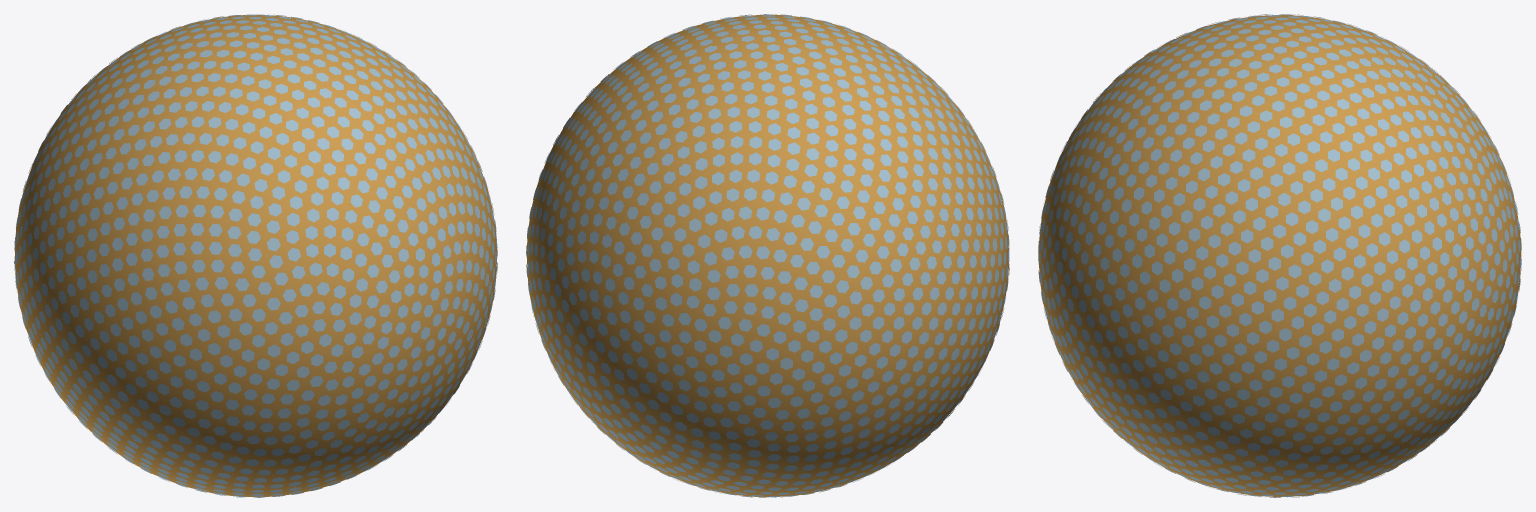
File: etalon.glb
3 views of the same model, side by side, from view 1: azimuth 30°, elevation 25°; view 2: azimuth 150°, elevation 25°; view 3: azimuth 270°, elevation 25° (orthographic).
Parts seen in each view (by area): view 1: Spherical body, Laser retroreflectors; view 2: Spherical body, Laser retroreflectors; view 3: Spherical body, Laser retroreflectors.
Part boxes in pixels (box(x1,y1,x2,y2)): Spherical body: box(15, 14, 497, 497); Laser retroreflectors: box(14, 14, 497, 497); Spherical body: box(526, 14, 1009, 497); Laser retroreflectors: box(526, 14, 1009, 497); Spherical body: box(1038, 14, 1521, 497); Laser retroreflectors: box(1038, 14, 1521, 497).
Bounding box in the file's own units: 1.3 × 1.3 × 1.3.
